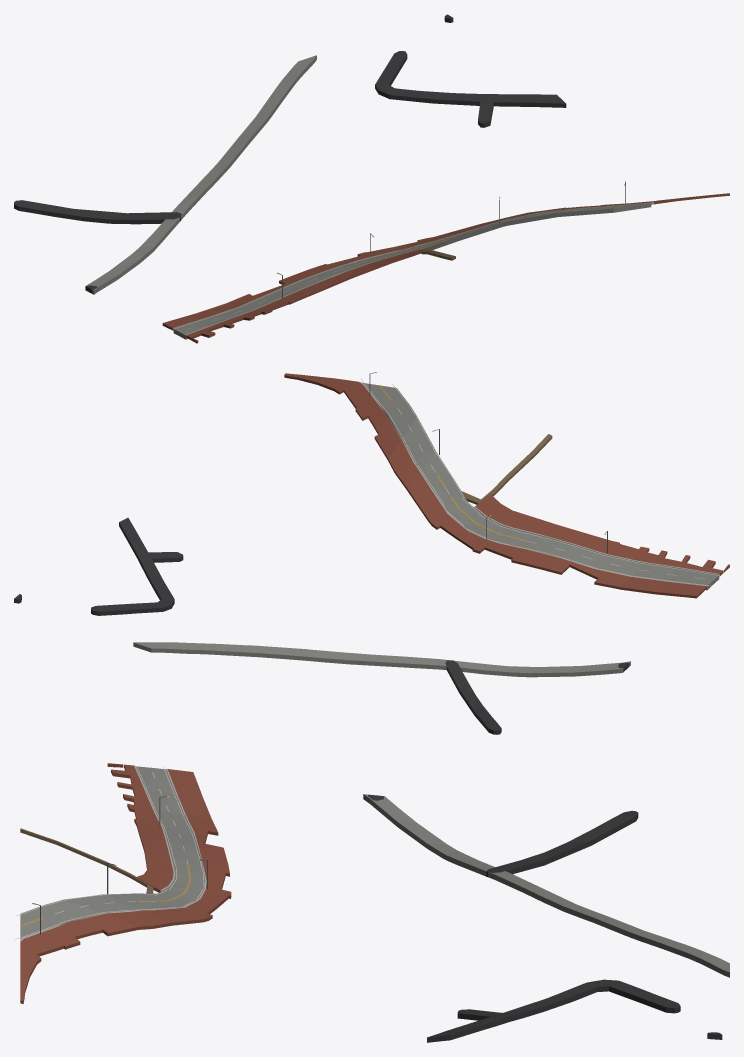
3 views of the same model, one above another, from view 1: azimuth 30°, elevation 25°; view 2: azimuth 150°, elevation 25°; view 3: azimuth 270°, elevation 25° (orthographic). The views are drawn at different scales.
Size of the model in its own units: 148 by 32.64 by 147.
